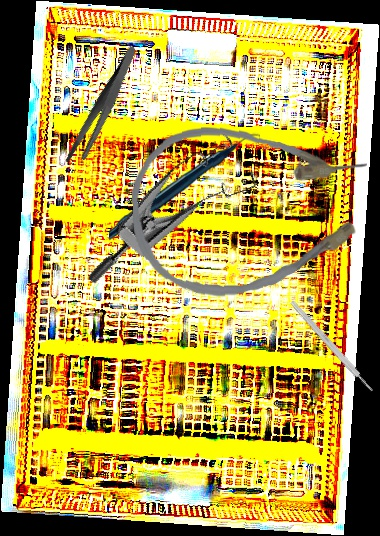Cannula: (128, 118, 374, 302)
Dressing Forceps: (42, 44, 164, 171)
Handpiece: (109, 129, 260, 244)
Scalpel Handle: (289, 299, 375, 394)
Speculum: (83, 108, 273, 331)
